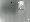person: (19, 3, 25, 14)
